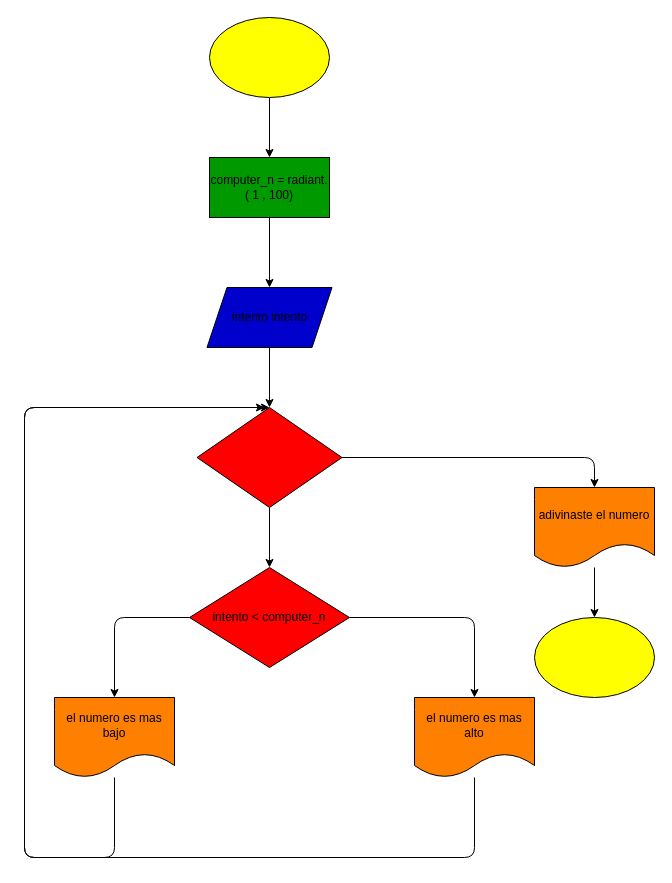
Some shapes in this 672 by 883 pixel diagram are drawn without their labels. The box of each missing label's shape, as (x1, y1, x2, y2) in pixels:
FIN: (534, 616, 654, 698)
INICIO: (208, 16, 330, 98)
intento != computer_n: (196, 406, 342, 508)
